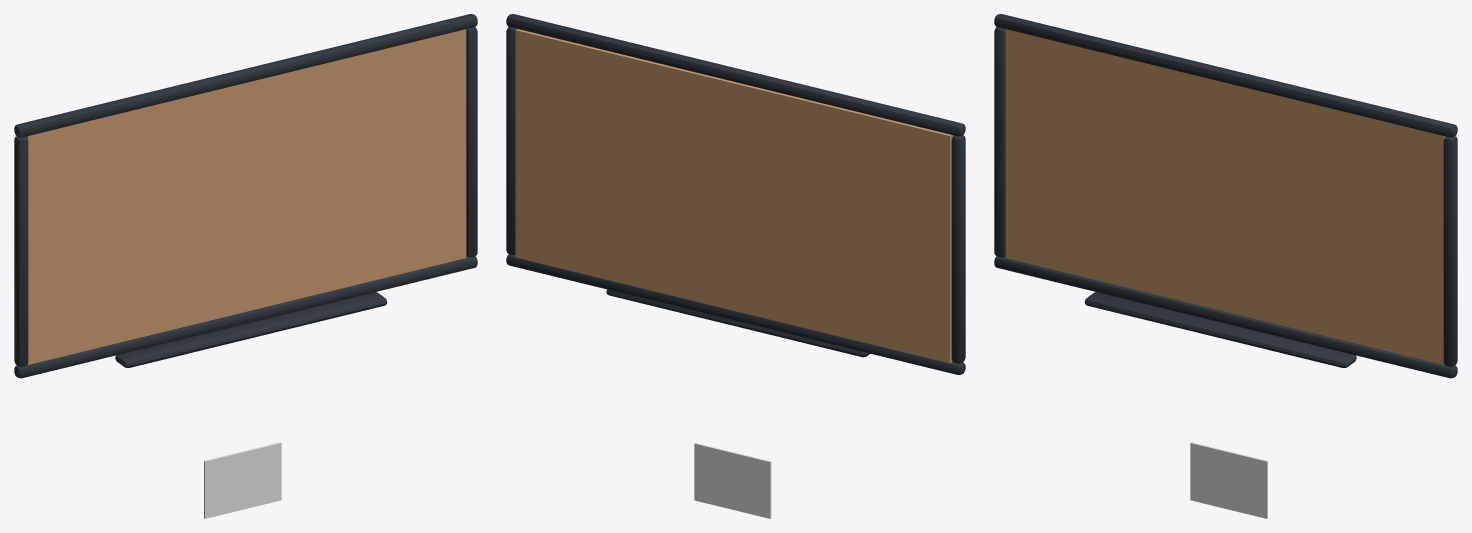
File: ENV_BRAINSTORM_ROOM_A_v001.glb
The picture shows the model from 3 angles, left to right: view 1: azimuth 30°, elevation 25°; view 2: azimuth 150°, elevation 25°; view 3: azimuth 330°, elevation 25°; orthographic projection.
Visible parts, largest first — view 1: ENV_BRAINSTORM_ROOM_A_BOARD, ENV_BRAINSTORM_ROOM_A_SHEET; view 2: ENV_BRAINSTORM_ROOM_A_BOARD, ENV_BRAINSTORM_ROOM_A_SHEET; view 3: ENV_BRAINSTORM_ROOM_A_BOARD, ENV_BRAINSTORM_ROOM_A_SHEET.
Part boxes in pixels (x1,y1,x2,y2): ENV_BRAINSTORM_ROOM_A_BOARD: (14,14,477,378); ENV_BRAINSTORM_ROOM_A_SHEET: (204,442,281,518); ENV_BRAINSTORM_ROOM_A_BOARD: (506,14,965,374); ENV_BRAINSTORM_ROOM_A_SHEET: (694,443,771,518); ENV_BRAINSTORM_ROOM_A_BOARD: (994,14,1457,378); ENV_BRAINSTORM_ROOM_A_SHEET: (1190,442,1267,518).
Size of the model in its own units: 2.52 by 2.31 by 0.145.
